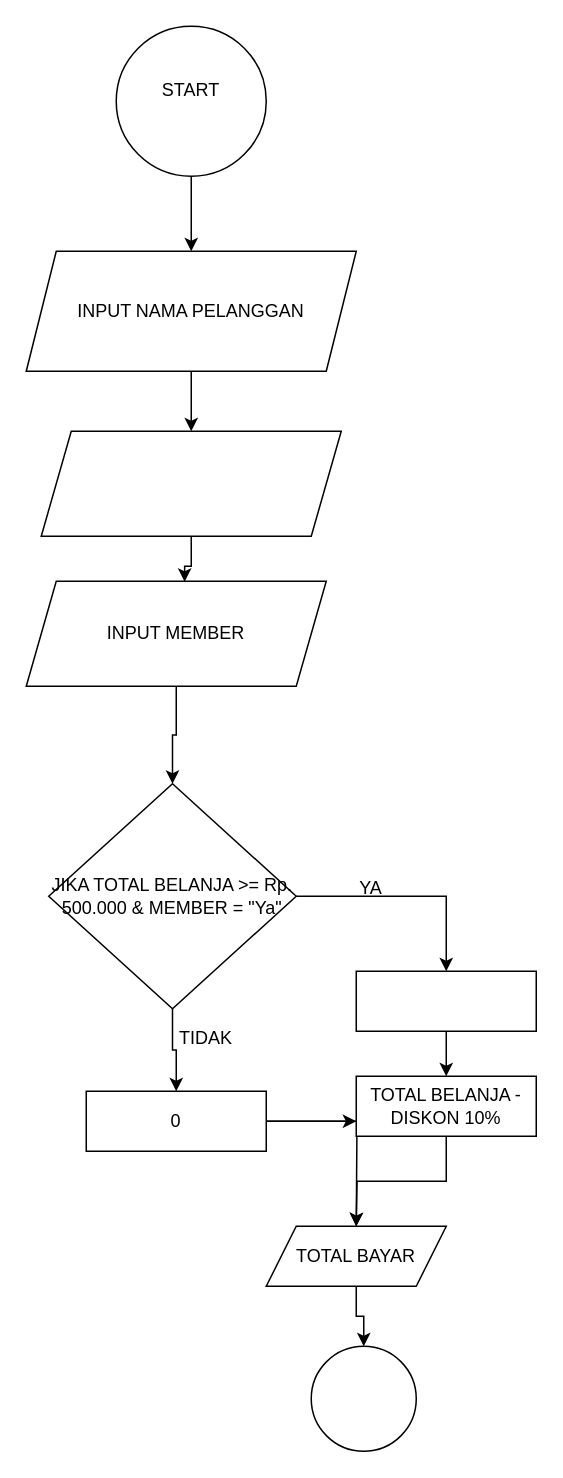
This 563x1478 diagram has some shape labels left out. Here are the shapes that lost their labels. From the top down, the box of each, then its label:
(40, 430, 341, 536): INPUT TOTAL BELANJA
(355, 970, 536, 1031): DISKON 10%
(310, 1345, 416, 1451): SELESAI
